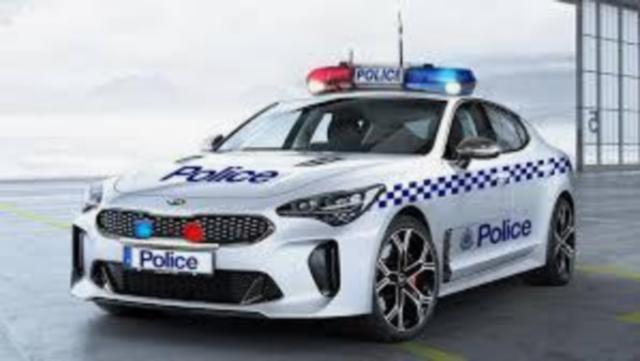police_car: (77, 58, 580, 340)
